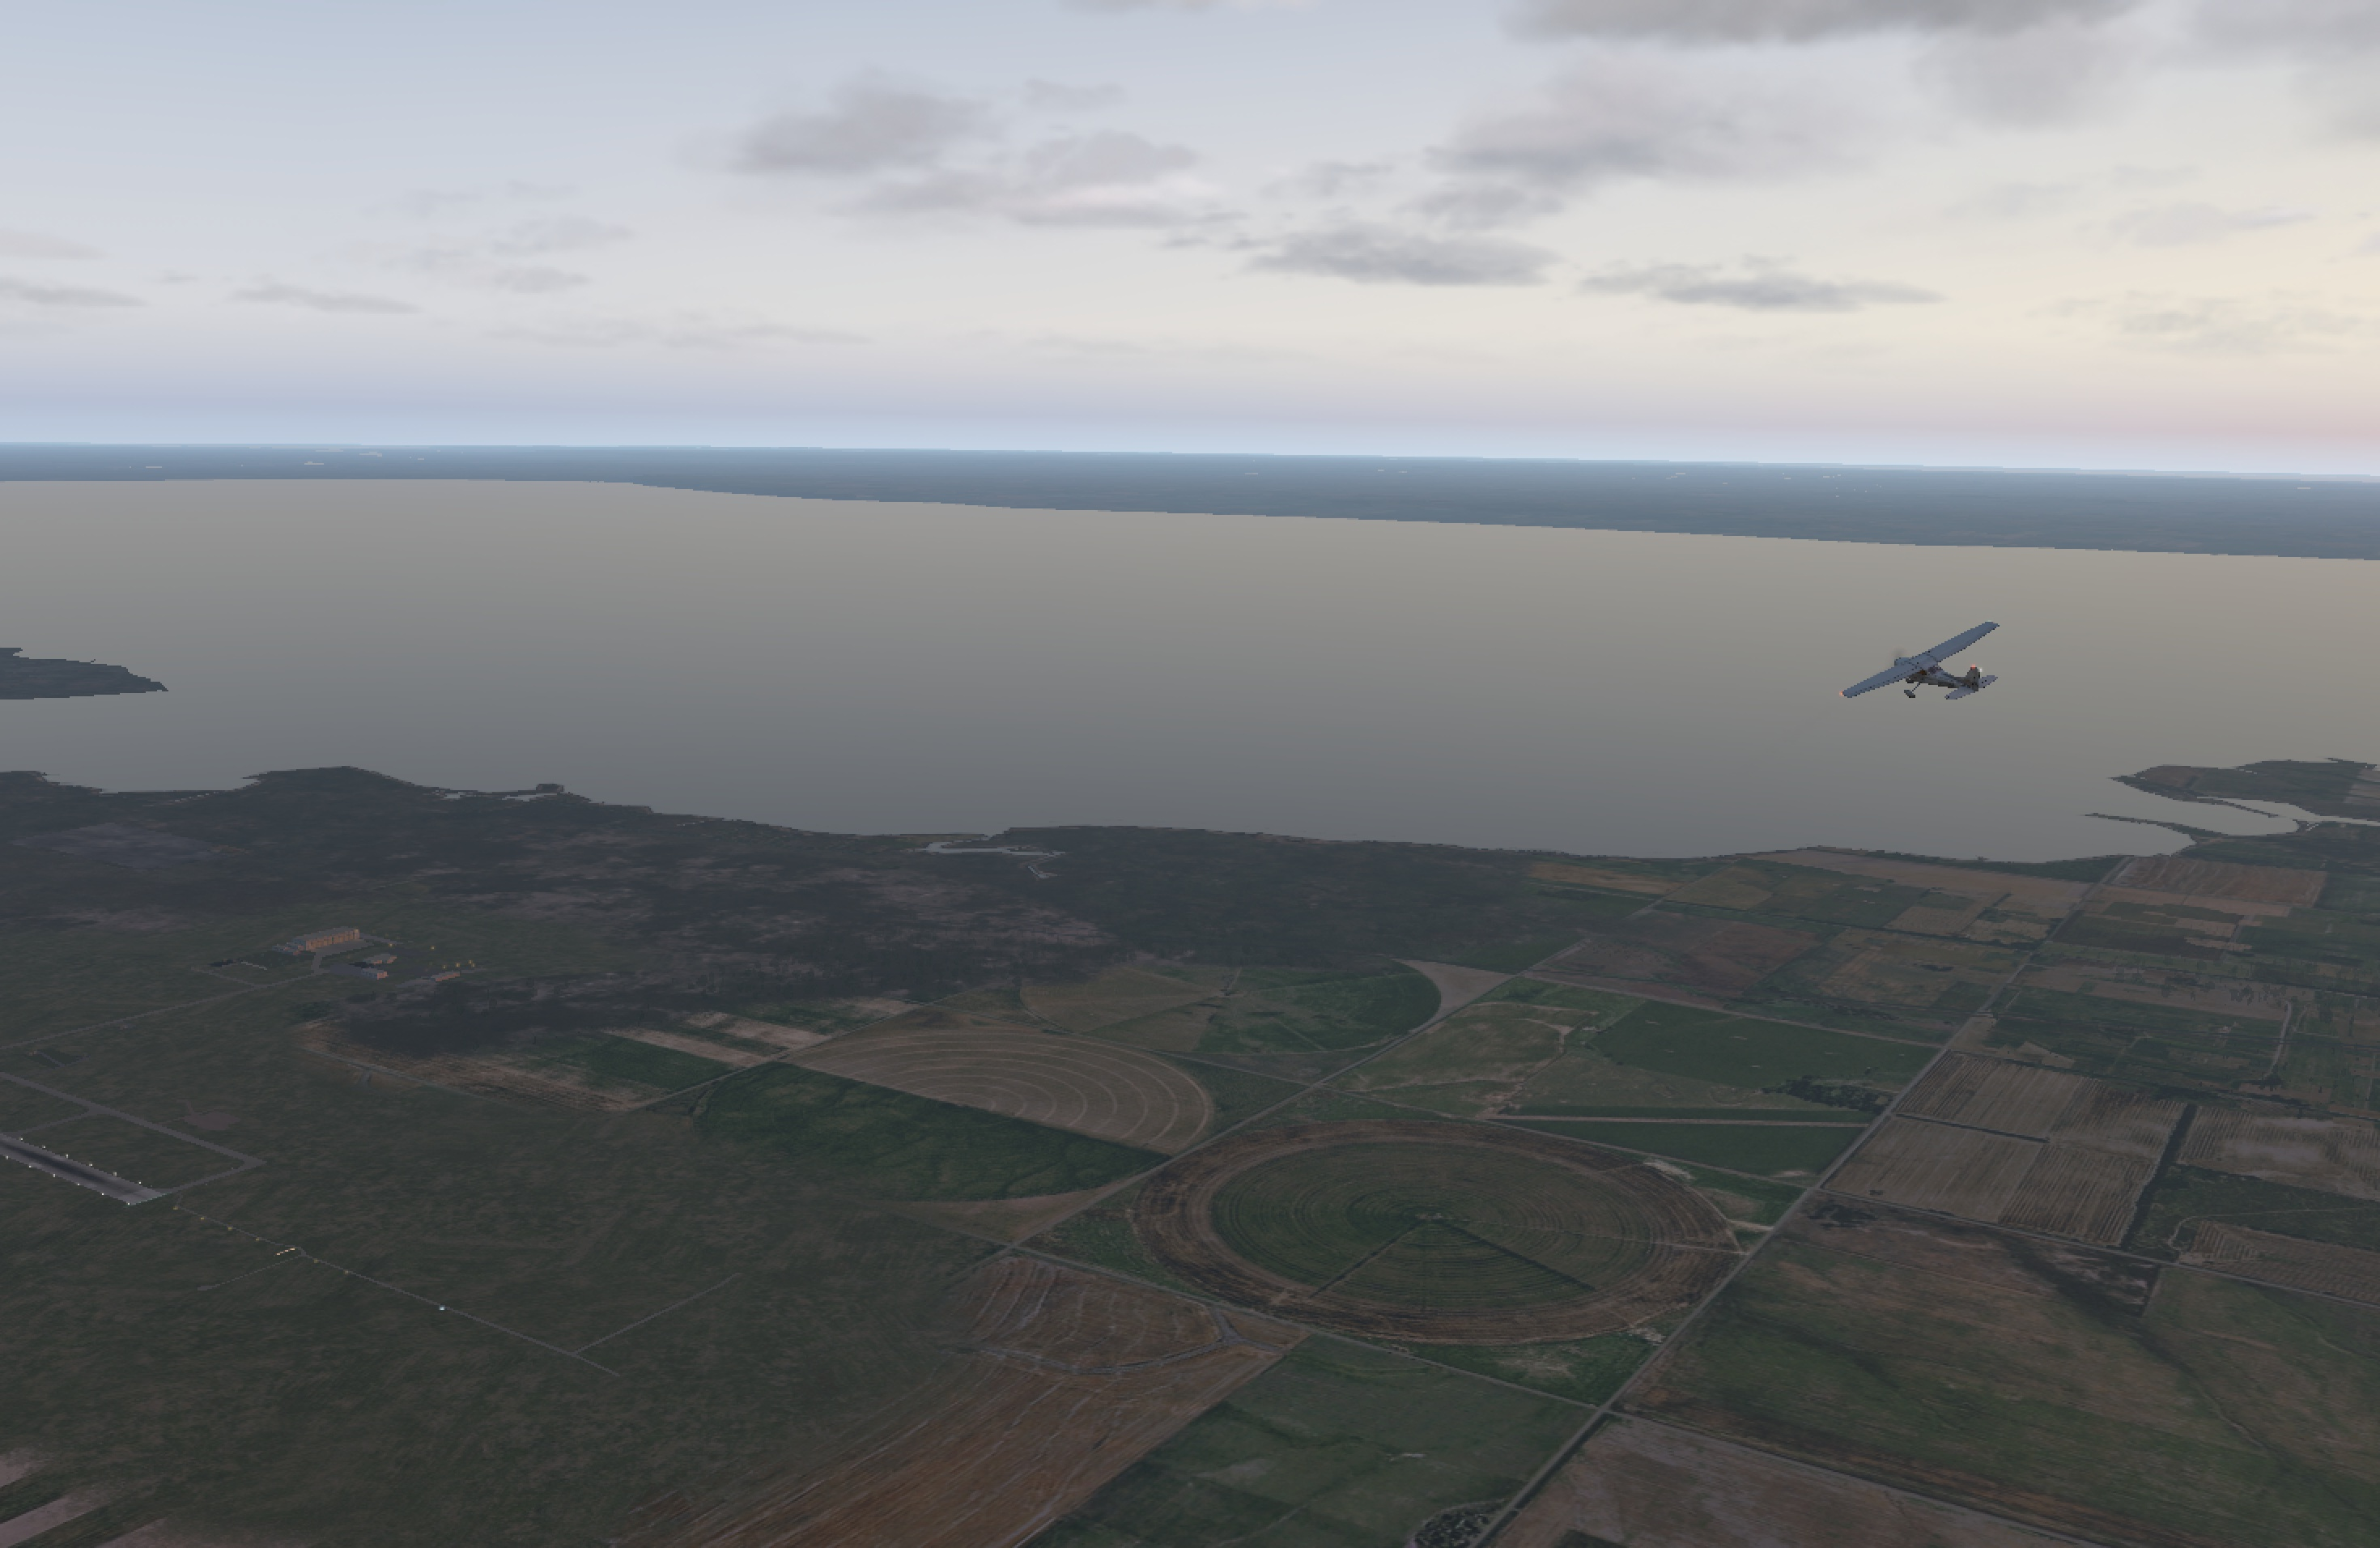aircraft: (1858, 646, 1981, 691)
